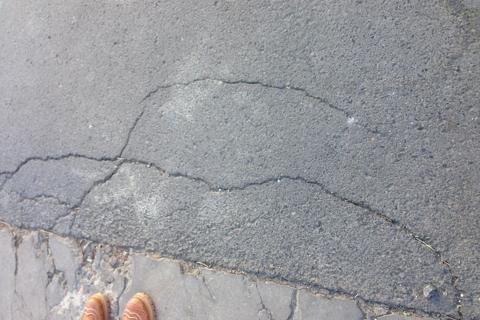crack: (260, 166, 478, 306), (4, 135, 247, 241), (108, 74, 398, 154)
